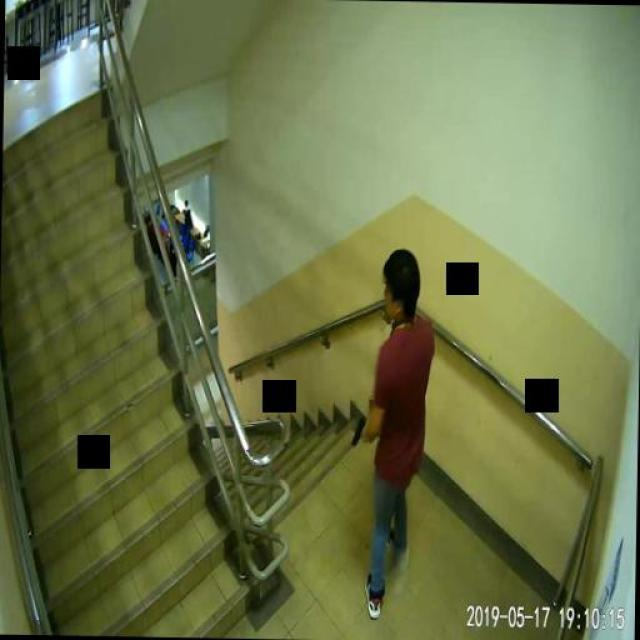gun: (351, 415, 369, 446)
